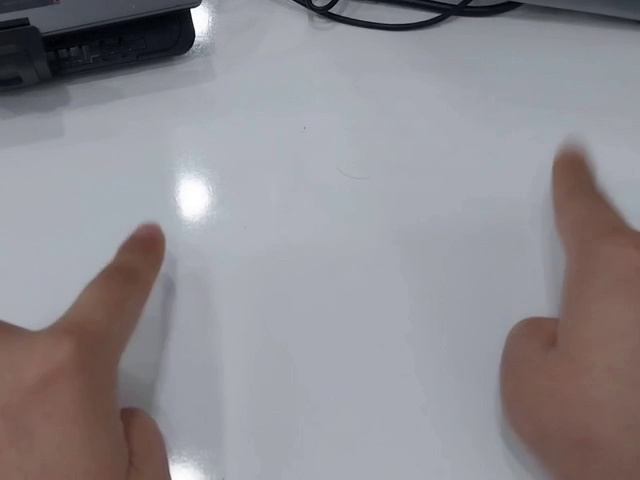fingers: (116, 221, 165, 272), (551, 148, 596, 194)
